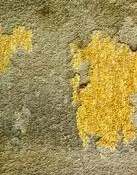Corrosion: (68, 28, 137, 151), (1, 24, 34, 73)
